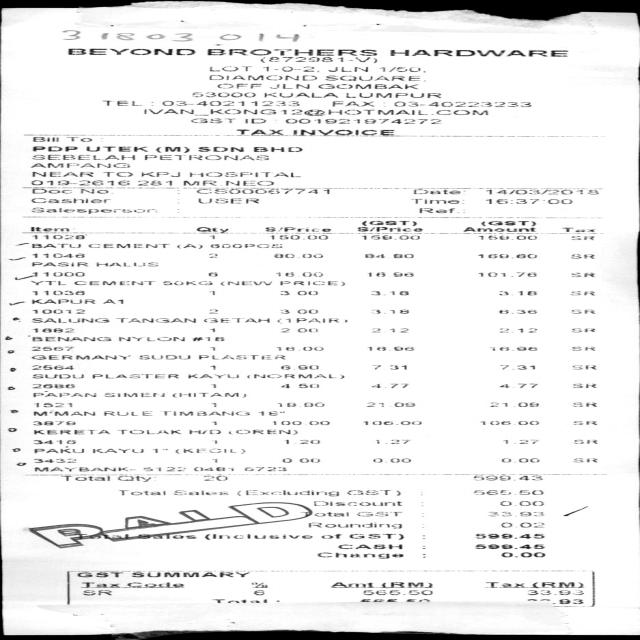text: (143, 109, 487, 115), (389, 50, 566, 56), (206, 49, 376, 55), (284, 118, 439, 124), (66, 48, 194, 55), (30, 207, 157, 214), (161, 100, 298, 106), (393, 101, 530, 107), (196, 188, 329, 194), (260, 56, 376, 62), (203, 534, 311, 540), (30, 197, 109, 205), (30, 154, 134, 160), (143, 155, 267, 160), (236, 490, 339, 496), (292, 129, 394, 135), (130, 572, 248, 577), (344, 92, 439, 98), (306, 522, 399, 528), (208, 75, 315, 80), (485, 198, 571, 204), (316, 552, 402, 558), (27, 335, 109, 341), (30, 180, 128, 185), (31, 355, 128, 360), (182, 180, 274, 185), (486, 190, 599, 194), (188, 172, 300, 176), (461, 226, 535, 232), (312, 501, 400, 506), (34, 467, 136, 471), (264, 226, 331, 232), (318, 84, 417, 88), (356, 226, 422, 232), (30, 163, 128, 167), (246, 374, 343, 378), (279, 280, 343, 286), (324, 76, 419, 80), (33, 429, 108, 434), (263, 92, 336, 97), (172, 392, 244, 397), (91, 374, 178, 378), (174, 448, 243, 453), (473, 475, 542, 480), (362, 590, 431, 595), (198, 355, 284, 359), (162, 411, 248, 415), (475, 533, 543, 538), (360, 220, 416, 226), (409, 198, 464, 204), (346, 490, 401, 496), (87, 244, 169, 248), (72, 280, 153, 284), (349, 534, 403, 540), (115, 318, 194, 322), (191, 92, 254, 97), (116, 429, 179, 434), (262, 66, 314, 72), (31, 318, 108, 322), (85, 146, 146, 151), (198, 198, 258, 203), (102, 392, 162, 397), (118, 336, 177, 341), (252, 146, 301, 152), (235, 128, 283, 134), (478, 272, 535, 277), (210, 244, 281, 248), (479, 221, 535, 226), (472, 490, 542, 494), (526, 590, 582, 595), (196, 146, 242, 152), (277, 318, 346, 322), (227, 430, 296, 434), (473, 544, 542, 548), (173, 490, 227, 495), (488, 511, 542, 516), (32, 234, 85, 239), (211, 599, 277, 603), (413, 189, 465, 194), (203, 318, 268, 322), (131, 582, 183, 587), (31, 253, 82, 258), (32, 271, 83, 276), (32, 290, 83, 295), (381, 582, 432, 587), (378, 66, 420, 72), (31, 299, 94, 303), (338, 544, 401, 548), (532, 582, 582, 587), (32, 393, 94, 397), (29, 226, 70, 232), (31, 243, 80, 248), (364, 253, 413, 258), (32, 411, 93, 415), (32, 172, 92, 176), (31, 188, 71, 194), (96, 262, 156, 266), (490, 402, 538, 407), (366, 402, 414, 407), (118, 490, 166, 495), (137, 534, 196, 538), (488, 346, 535, 351), (328, 66, 367, 72), (360, 235, 418, 239), (478, 236, 536, 240), (477, 254, 535, 258), (479, 420, 537, 424), (276, 346, 322, 351), (276, 402, 322, 407), (356, 511, 402, 516), (76, 572, 122, 577), (102, 100, 140, 106), (271, 420, 328, 424), (362, 421, 419, 425), (116, 476, 154, 482), (31, 146, 76, 151), (368, 346, 413, 351), (270, 235, 326, 239), (30, 262, 86, 266), (189, 118, 233, 123), (499, 552, 543, 557), (74, 534, 128, 538), (217, 83, 260, 88), (137, 180, 172, 186), (331, 582, 373, 587), (218, 281, 270, 285), (209, 66, 250, 71), (331, 101, 372, 106), (154, 146, 188, 152), (32, 309, 83, 313), (187, 374, 238, 378), (31, 374, 82, 378), (33, 449, 84, 453), (30, 346, 70, 351), (138, 355, 188, 359), (92, 448, 142, 452), (195, 226, 228, 232), (162, 280, 211, 284), (102, 411, 151, 415), (61, 476, 110, 480), (273, 254, 321, 258), (300, 512, 348, 516), (370, 383, 408, 388), (282, 439, 320, 444), (552, 598, 583, 604), (418, 208, 455, 213), (371, 309, 408, 314), (498, 383, 535, 388), (33, 402, 70, 407), (80, 582, 117, 587), (275, 272, 321, 276), (29, 280, 65, 285), (367, 272, 411, 276), (560, 227, 595, 232), (32, 421, 75, 425), (32, 440, 75, 444), (243, 467, 286, 471), (375, 439, 409, 444), (502, 439, 536, 444), (79, 188, 107, 194), (30, 328, 72, 332), (30, 365, 72, 369), (142, 467, 184, 471), (500, 501, 542, 505), (500, 523, 542, 527), (268, 84, 308, 88), (32, 384, 72, 388), (35, 458, 75, 462), (485, 582, 525, 586), (66, 136, 92, 142), (193, 467, 232, 471), (188, 429, 219, 434), (140, 172, 178, 176), (498, 290, 536, 294), (498, 310, 536, 314), (358, 598, 396, 602), (371, 291, 408, 295), (370, 328, 407, 332), (372, 458, 409, 462), (498, 328, 534, 332), (280, 365, 316, 369), (502, 458, 538, 462), (188, 337, 223, 341), (499, 365, 534, 369), (370, 365, 404, 369), (82, 590, 109, 595), (572, 439, 596, 444), (572, 383, 595, 388), (103, 172, 131, 176), (296, 290, 318, 295), (571, 346, 593, 351), (296, 309, 317, 314), (31, 137, 57, 141), (258, 411, 284, 415), (244, 118, 264, 123), (101, 299, 121, 304), (298, 383, 318, 388), (176, 244, 200, 248), (570, 290, 594, 294), (572, 402, 596, 406), (572, 420, 596, 424), (203, 476, 227, 480), (570, 236, 593, 240), (570, 254, 593, 258), (570, 272, 593, 276), (570, 310, 593, 314), (572, 365, 595, 369), (573, 458, 596, 462), (571, 328, 593, 332), (297, 328, 318, 332), (320, 534, 341, 538), (250, 582, 266, 587), (299, 458, 318, 462), (151, 449, 166, 453), (405, 599, 429, 601), (208, 253, 217, 258), (253, 590, 262, 595), (206, 272, 216, 276), (280, 328, 290, 332), (280, 458, 290, 462), (210, 383, 217, 388), (280, 291, 288, 295), (208, 290, 216, 294), (208, 309, 216, 313), (280, 309, 288, 313), (208, 328, 216, 332), (208, 347, 216, 351), (209, 365, 217, 369), (280, 384, 288, 388), (210, 440, 218, 444), (211, 458, 219, 462), (209, 235, 216, 239), (210, 403, 217, 407), (212, 421, 218, 425)
